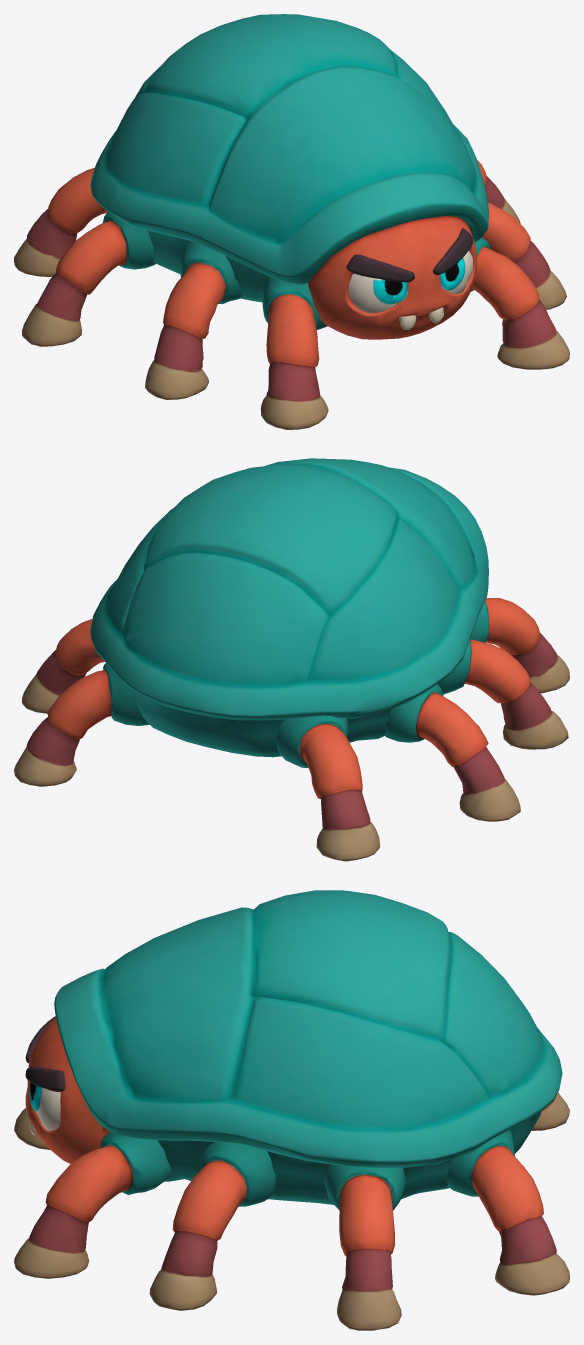
Rendered from panzerkaefer_statisch_roh.glb.
3 renders of one model, top to bottom at view 1: azimuth 30°, elevation 25°; view 2: azimuth 150°, elevation 25°; view 3: azimuth 270°, elevation 25°, orthographic. The views are drawn at different scales.
Visible parts, largest first — view 1: geometry_0; view 2: geometry_0; view 3: geometry_0.
Boxes of the visible parts, <box> form: geometry_0: <box>14,14,569,429</box>; geometry_0: <box>14,458,569,861</box>; geometry_0: <box>14,890,569,1330</box>.
Size of the model in its own units: 0.9497 by 0.4897 by 0.8433.
Materials: 1 (1 with a texture image).
